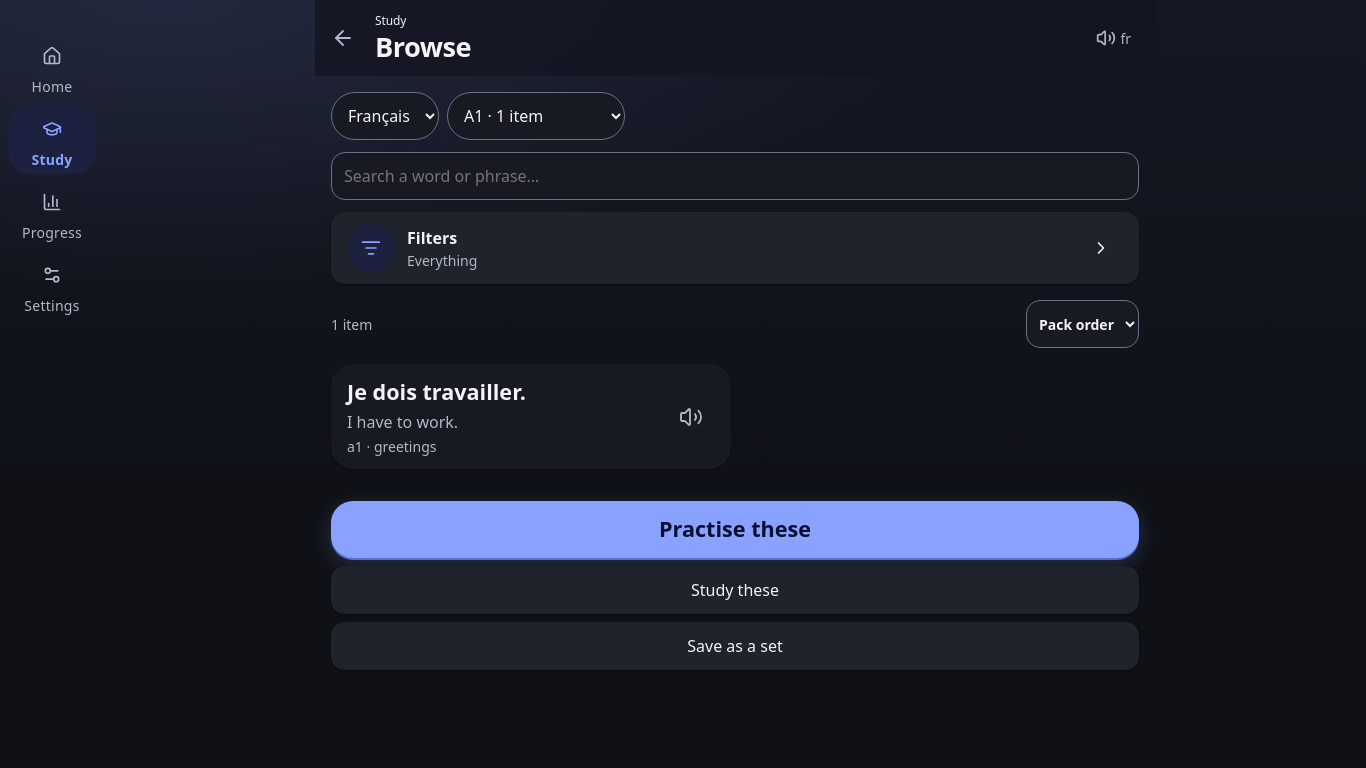
Test: the course bar › switches level without leaving the screen, and remembers the choice
expect the text "1 item" is shown: met, box [331,314,372,334]
Select "B1 · 2 items" in the 2nd dropdown named "Level" at point(536, 116), box [447,92,625,140]
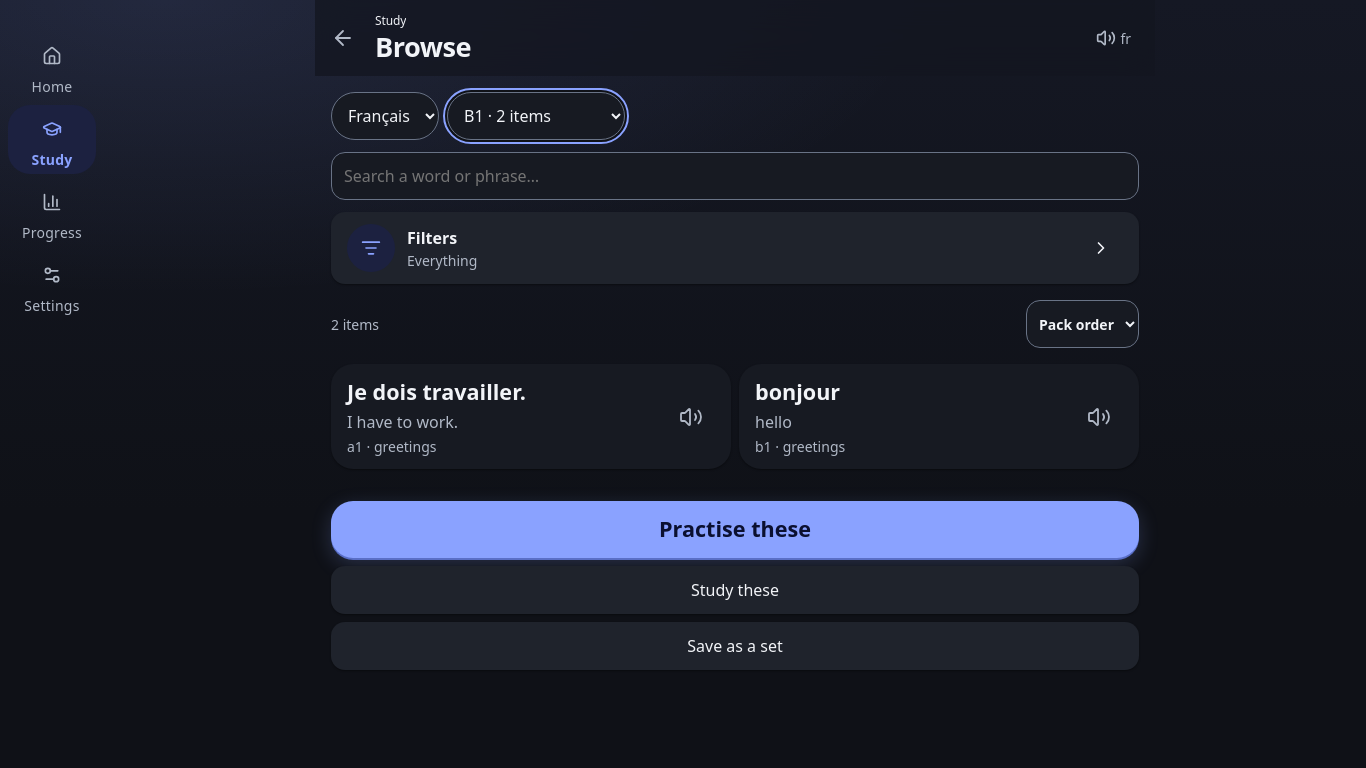
expect the text "2 items" is shown: met, box [331,314,379,334]
